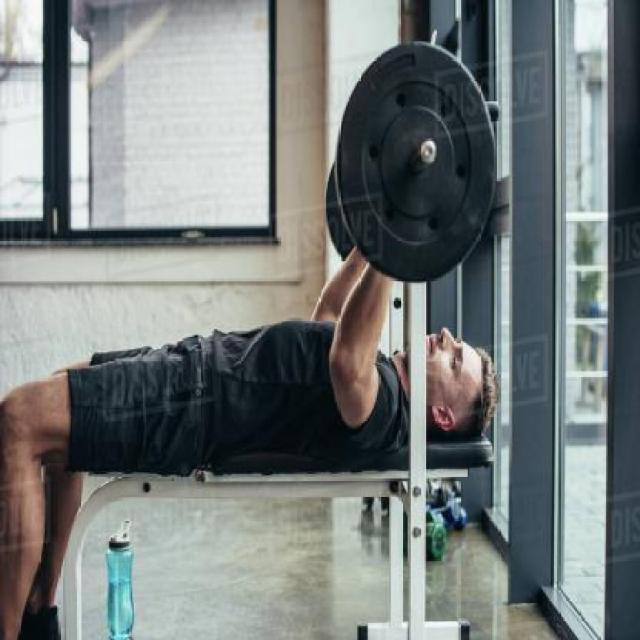barbell: (335, 37, 503, 286)
